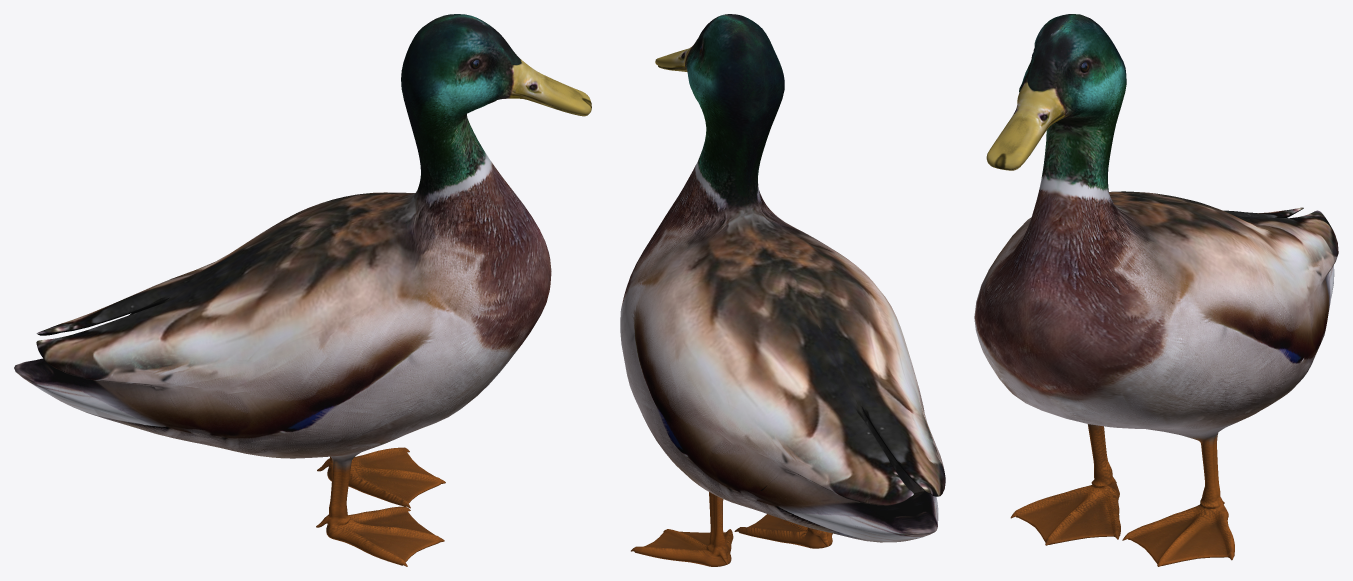
The model's file is birdyAni.glb.
The picture shows the model from 3 angles, left to right: view 1: azimuth 30°, elevation 25°; view 2: azimuth 150°, elevation 25°; view 3: azimuth 270°, elevation 25°; orthographic projection. The views are drawn at different scales.
Visible parts, largest first — view 1: 12248_Bird_v1_L2; view 2: 12248_Bird_v1_L2; view 3: 12248_Bird_v1_L2.
Part boxes in pixels (x1,y1,x2,y2): 12248_Bird_v1_L2: (14,14,591,566); 12248_Bird_v1_L2: (620,14,945,566); 12248_Bird_v1_L2: (974,14,1338,566).
Size of the model in its own units: 1.85 by 2.11 by 1.29.
1 material, 1 textured.
